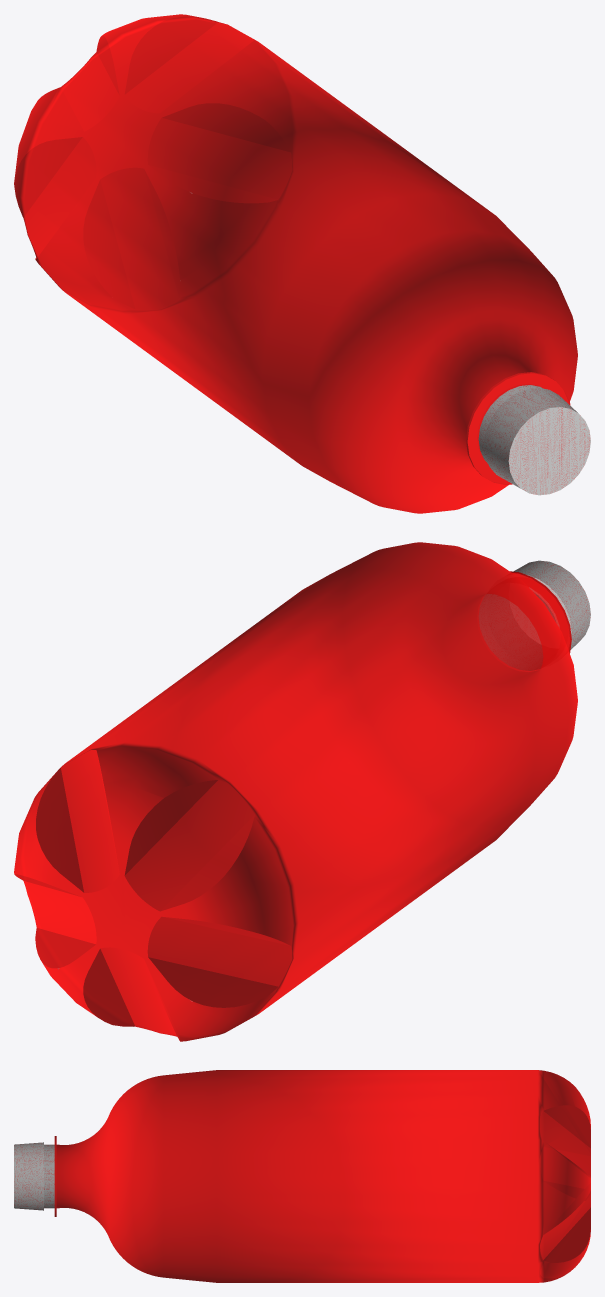
The model's file is model_align.obj.
3 views of the same model, one above another, from view 1: azimuth 30°, elevation 25°; view 2: azimuth 150°, elevation 25°; view 3: azimuth 270°, elevation 25° (orthographic). The views are drawn at different scales.
Parts seen in each view (by area): view 1: mesh1_mesh1-geometry; view 2: mesh1_mesh1-geometry; view 3: mesh1_mesh1-geometry.
Boxes of the visible parts, x1=… form: mesh1_mesh1-geometry: x1=14, y1=14, x2=590, y2=513; mesh1_mesh1-geometry: x1=14, y1=542, x2=590, y2=1041; mesh1_mesh1-geometry: x1=14, y1=1070, x2=590, y2=1282.
Size of the model in its own units: 0.0507 by 0.0507 by 0.1369.
